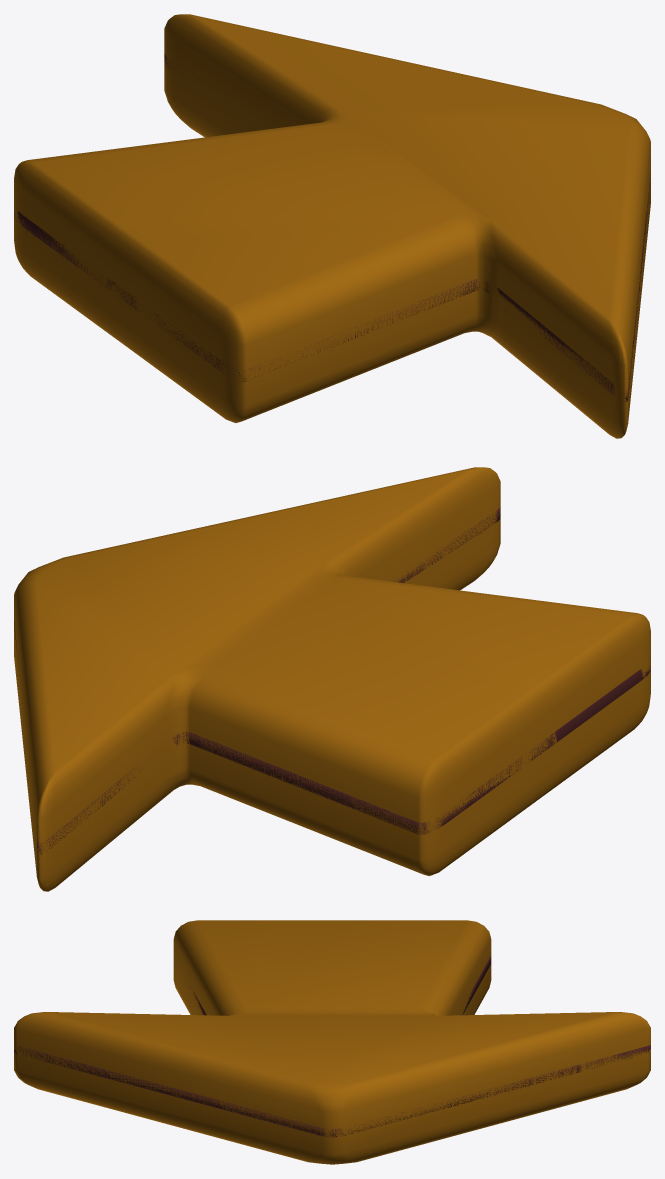
File: arrows.glb
3 views of the same model, one above another, from view 1: azimuth 30°, elevation 25°; view 2: azimuth 150°, elevation 25°; view 3: azimuth 270°, elevation 25° (orthographic). The views are drawn at different scales.
Visible parts, largest first — view 1: fullArrow, unavailableArrow; view 2: fullArrow, unavailableArrow; view 3: fullArrow, unavailableArrow.
Boxes of the visible parts, box(x1,y1,x2,y2) form: fullArrow: box(14, 14, 650, 438); unavailableArrow: box(14, 54, 650, 401); fullArrow: box(14, 467, 650, 891); unavailableArrow: box(14, 507, 650, 854); fullArrow: box(14, 920, 650, 1164); unavailableArrow: box(14, 956, 650, 1137).
Size of the model in its own units: 1.12 by 0.2343 by 1.71.
